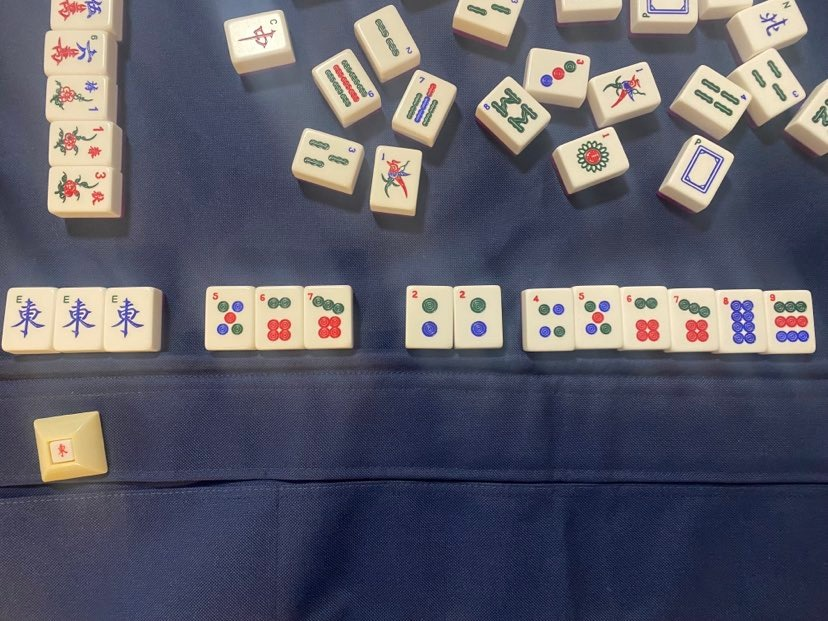circle-eight: (719, 292, 761, 348)
circle-five: (575, 289, 620, 343), (207, 289, 251, 340)
circle-four: (527, 292, 572, 344)
circle-nine: (768, 292, 816, 347)
circle-seven: (670, 293, 715, 346), (306, 290, 349, 345)
circle-six: (258, 291, 303, 345), (625, 292, 666, 344)
circle-two: (455, 288, 498, 343), (410, 288, 446, 343)
honor-east_wind: (56, 292, 100, 344), (8, 291, 48, 342), (107, 292, 148, 341)
